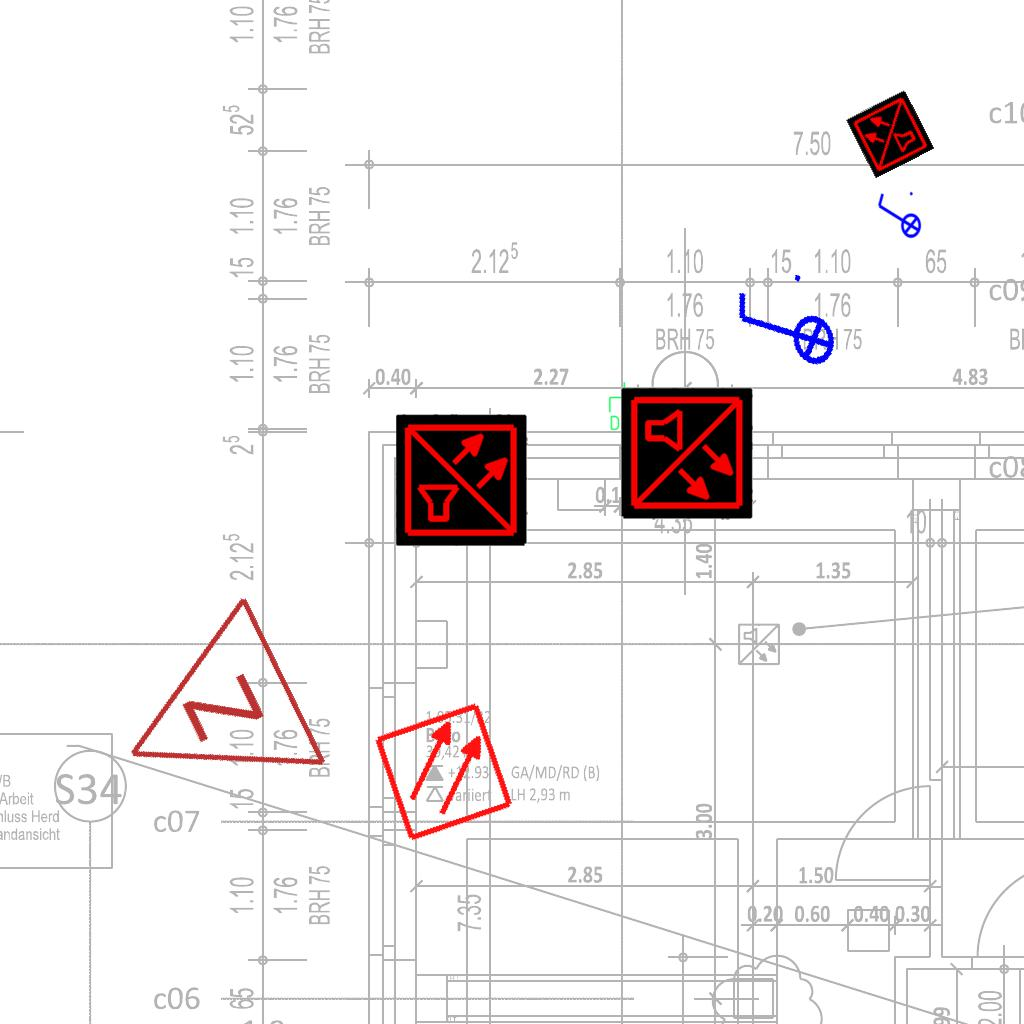Ausschalter_beleuchtet: (723, 263, 845, 397), (874, 189, 922, 245)
Datenanschluss_zweifach: (607, 381, 641, 432)
OKW_Multisensormelder_(Kombination_optischer_Rauch-Kahlenmonoxid_Waerme-Melder): (396, 414, 528, 546), (621, 388, 753, 520), (845, 89, 935, 179)
RMO_Rauchmelder_optischer: (371, 699, 516, 844)
Zimmersignalleuchte: (77, 587, 343, 851)
